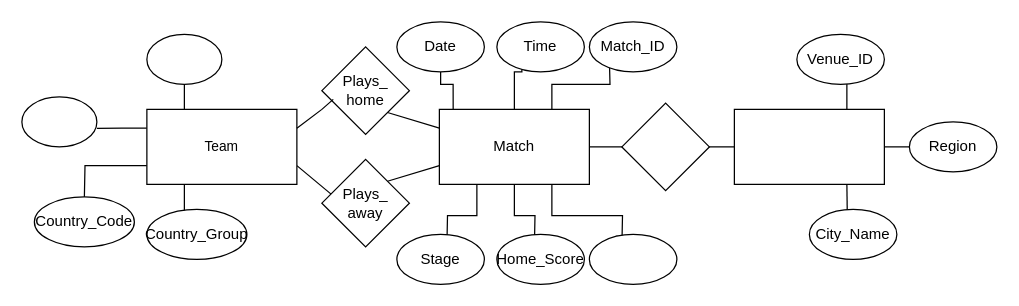
Some shapes in this 1019 by 306 pixel diagram are drawn without their labels. Each missing label, with the centre of its shape:
"Away_Score" belongs at [632,258].
"Country_ Name" belongs at [59,121].
"Hosted_At" belongs at [665,146].
"Team_ID" belongs at [184,58].
"Venue" belongs at [808,146].
